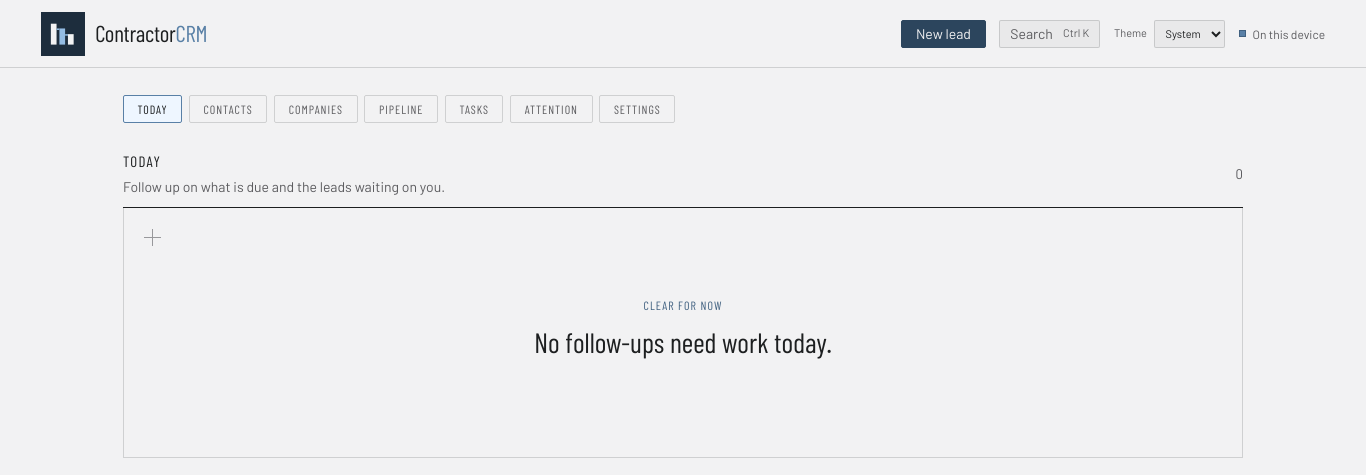
Test case: tasks view › renders task rows and flags overdue ones with a label, not hue alone
Click the button "Tasks" at (474, 109), box [445,95,503,123]
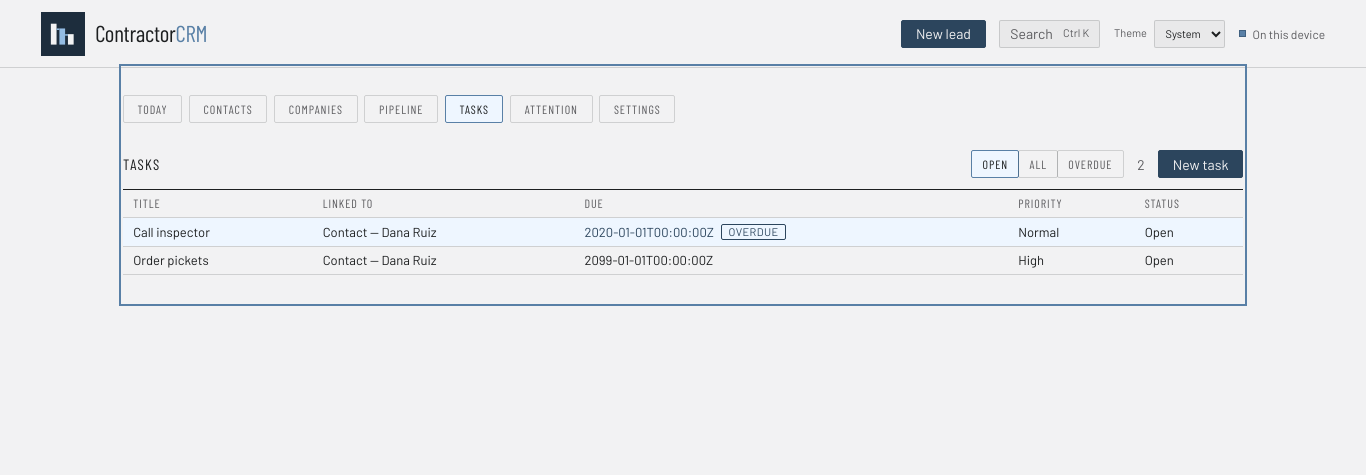
Expected: the text "Call inspector" is shown, [133,224,210,240]
Expected: the text "Contact — Dana Ruiz" next to "Call inspector" is shown, [323,224,436,240]
Expected: the text "Overdue" is shown, [721,224,786,240]
